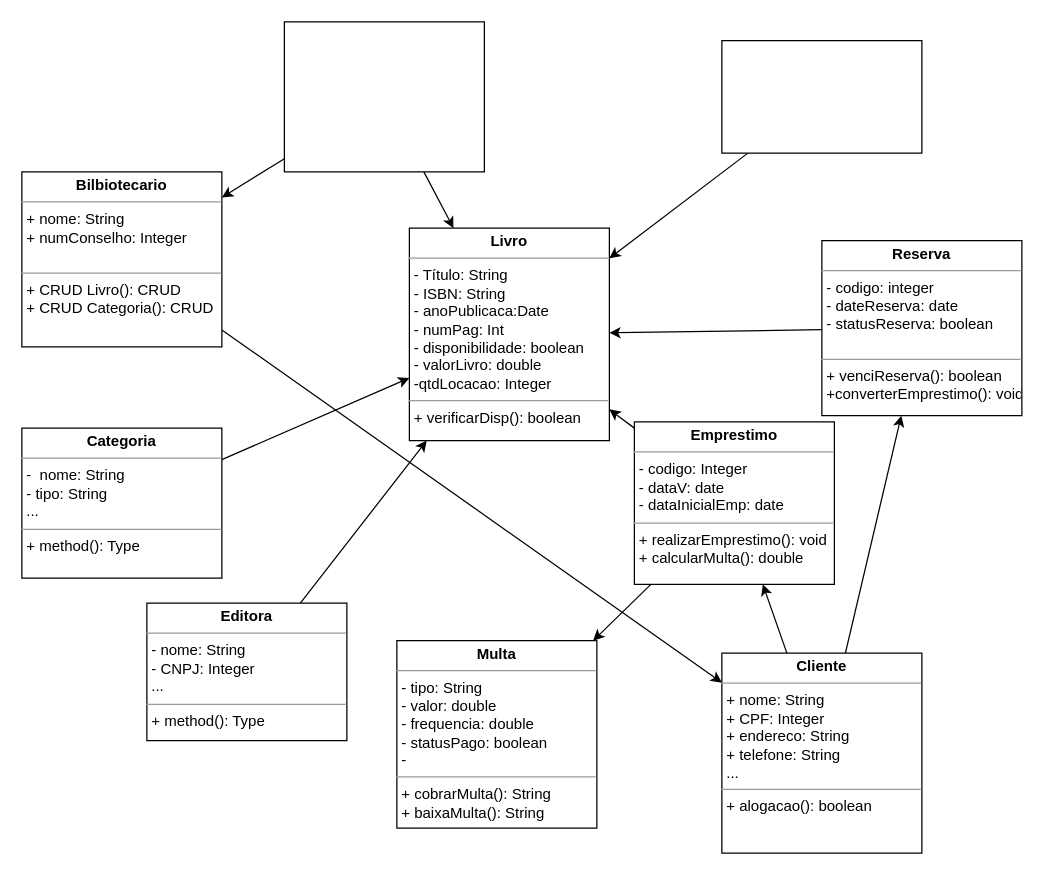
Image size: 1044x875. Some labels were removed from this diagram. Here are the shapes that lost their labels. From the top down, the centre of each, then its label:
At point (383, 96): "Biblioteca - telefone: Integer - CNPJ: Integer + method(): Type".
At point (821, 96): "Autor - nome: String -CPF: Integer + method(): Type".
